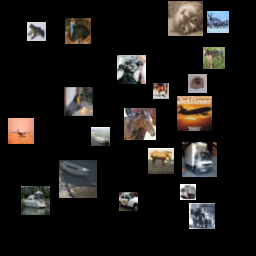automobile: (20, 59, 46, 85), (186, 112, 208, 134)
bird: (170, 19, 205, 54)
cat: (146, 181, 165, 200)
deer: (215, 69, 253, 107), (39, 26, 71, 58)
dog: (192, 174, 230, 212), (89, 9, 121, 41), (49, 163, 75, 189), (168, 145, 190, 167), (115, 175, 134, 194)
frog: (215, 22, 250, 57), (13, 141, 42, 170)
ship: (55, 210, 93, 248), (106, 216, 138, 248)
